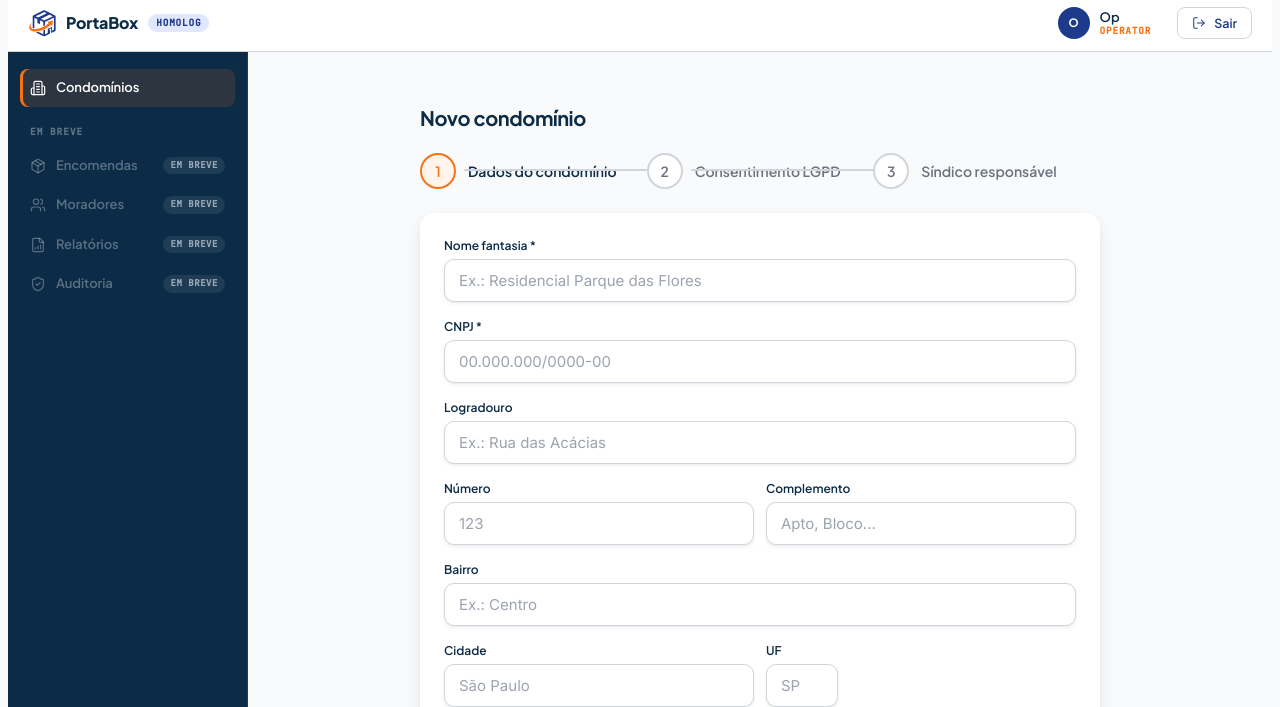
Test: NovoCondominioPage — validações de etapa 1 › preserva dados ao voltar para etapa 1 a partir da etapa 2
expect the heading "Novo condomínio" is shown: met, box x1=420 y1=105 x2=586 y2=130
Step 1. Type "Residencial Parque" into the field labelled "Nome fantasia *" → (760, 280), box x1=444 y1=259 x2=1076 y2=302
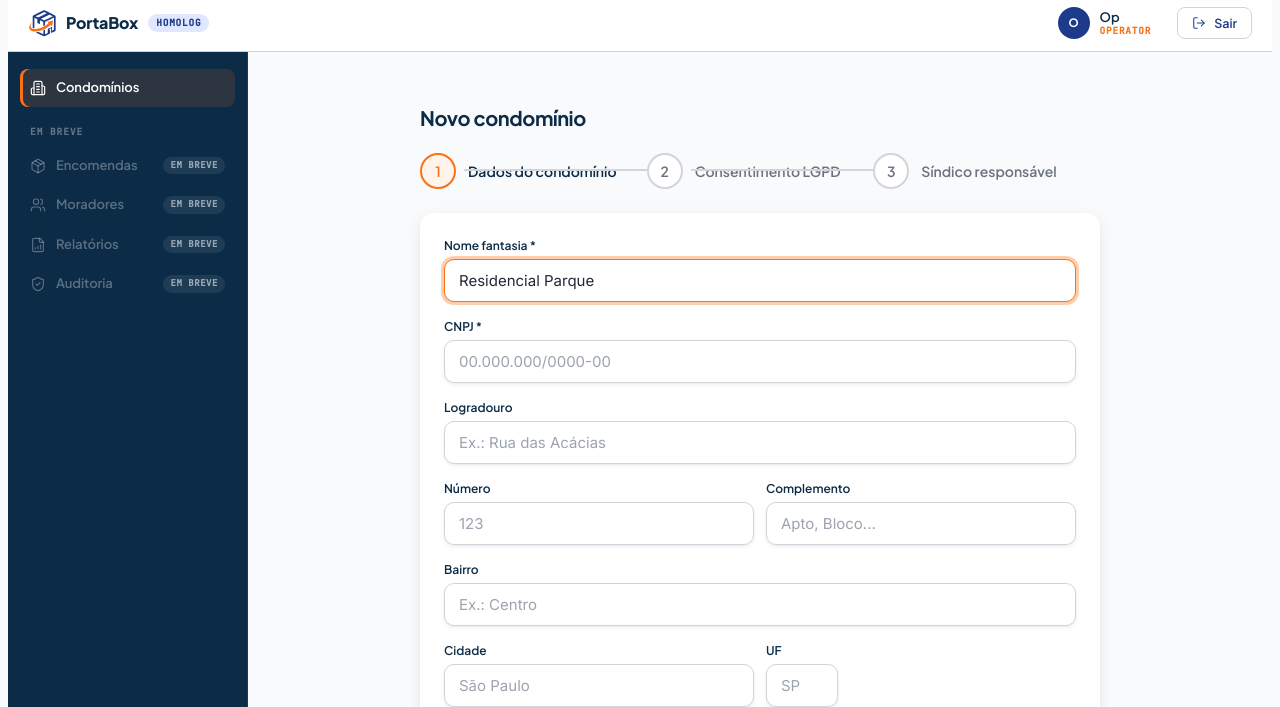
Step 2. Type "11.222.333/0001-81" into the field labelled "CNPJ *" → (760, 362), box x1=444 y1=340 x2=1076 y2=383
(page scrolled)
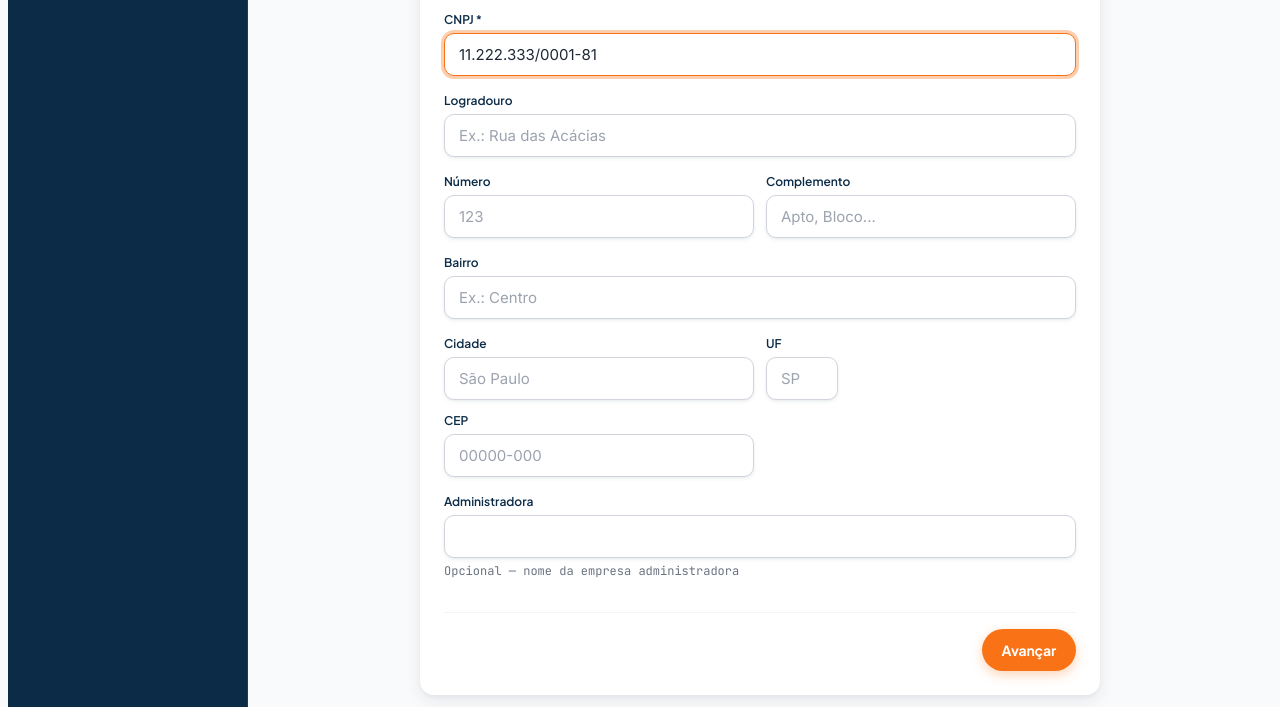
Step 3. Click the button "Avançar" → (1029, 650), box x1=982 y1=629 x2=1076 y2=671
(page scrolled)
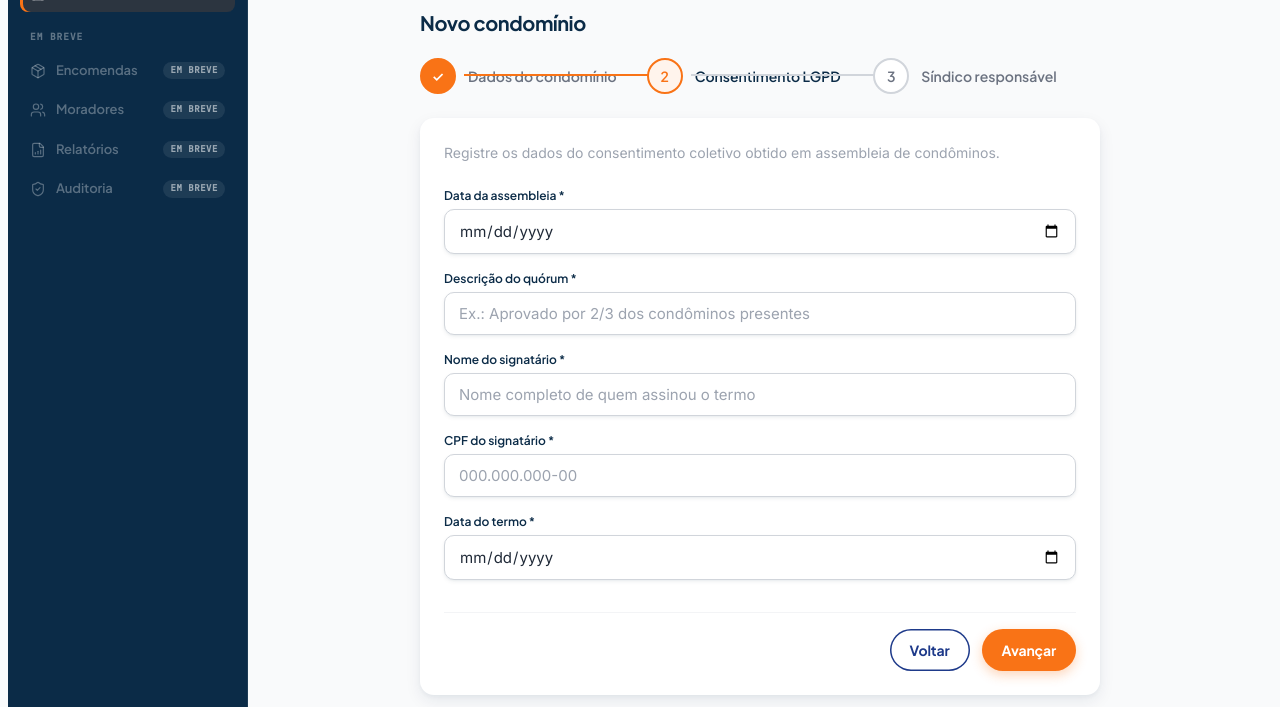
expect the button "Voltar" is shown: met
Step 4. Click the button "Voltar" → (930, 650), box x1=890 y1=629 x2=970 y2=671
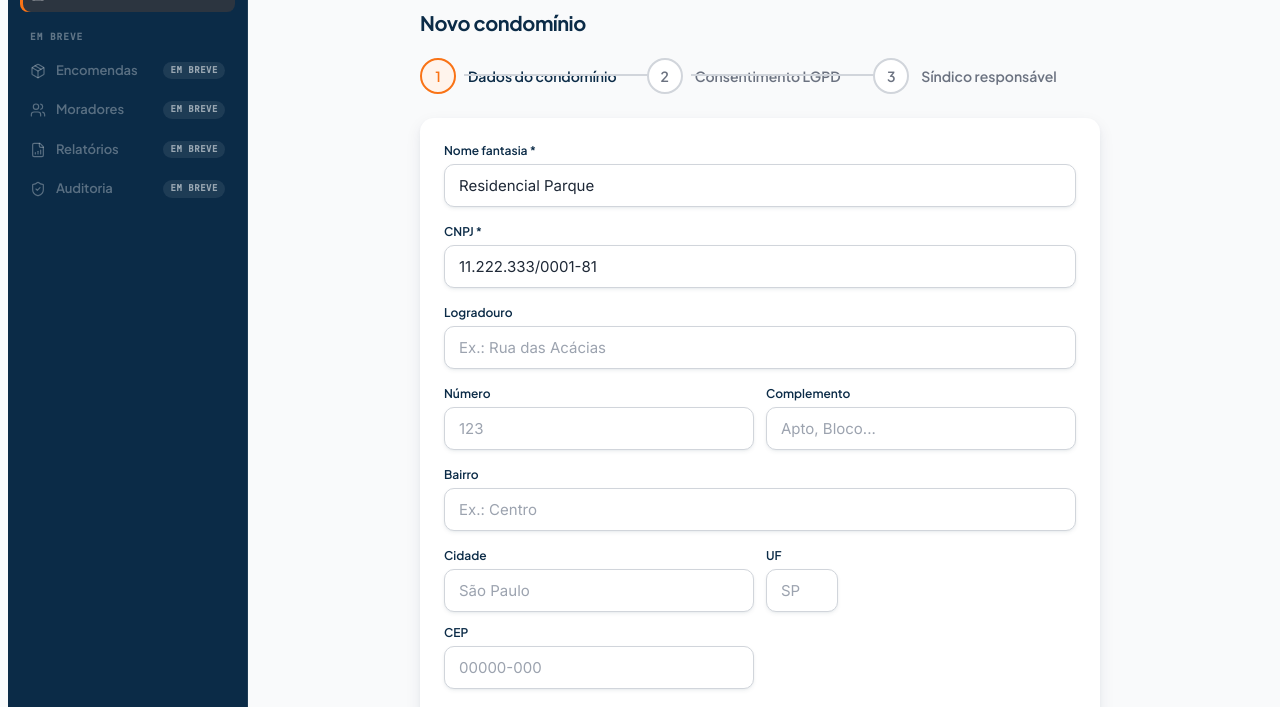
expect the field labelled "Nome fantasia *" holds "Residencial Parque": met, box x1=444 y1=164 x2=1076 y2=207
